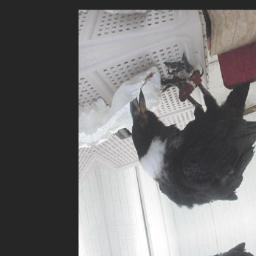Crow: (118, 34, 256, 227)
